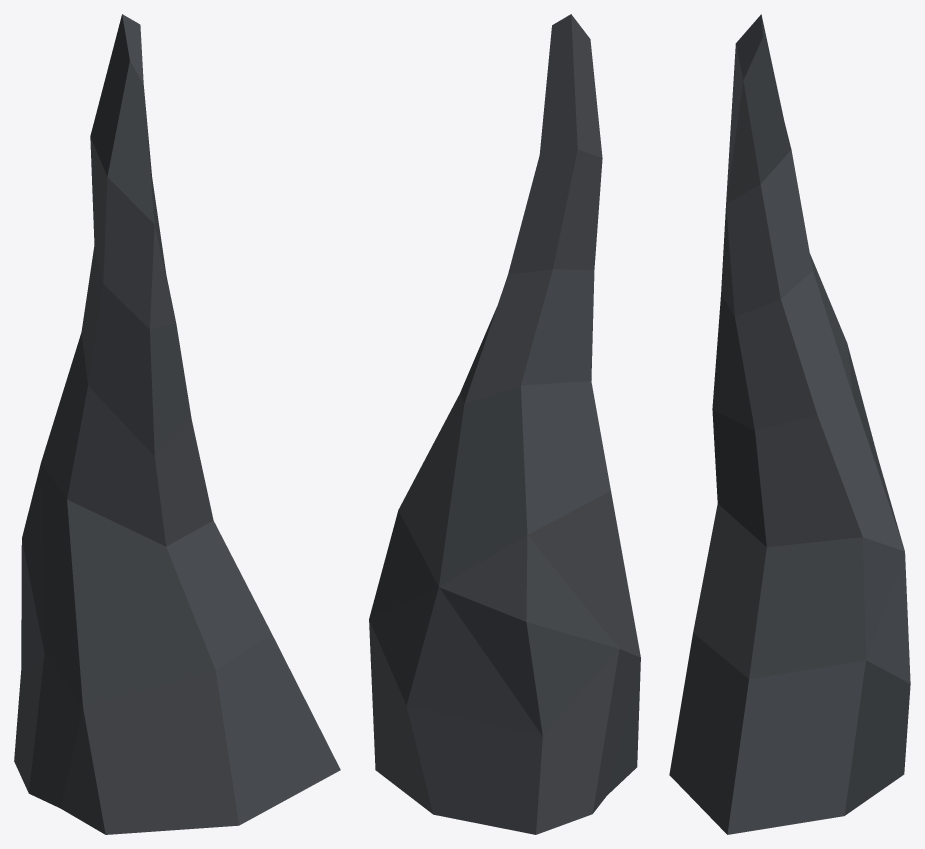
Rendered from Stalagmite_Med.fbx.
The picture shows the model from 3 angles, left to right: view 1: azimuth 30°, elevation 25°; view 2: azimuth 150°, elevation 25°; view 3: azimuth 270°, elevation 25°; orthographic projection. The views are drawn at different scales.
Parts seen in each view (by area): view 1: Stalagmite_Med; view 2: Stalagmite_Med; view 3: Stalagmite_Med.
Part boxes in pixels (x1=…): Stalagmite_Med: x1=14, y1=14, x2=340, y2=834; Stalagmite_Med: x1=369, y1=14, x2=640, y2=834; Stalagmite_Med: x1=669, y1=14, x2=910, y2=834.
Bounding box in the file's own units: 67.47 × 193 × 57.81.
